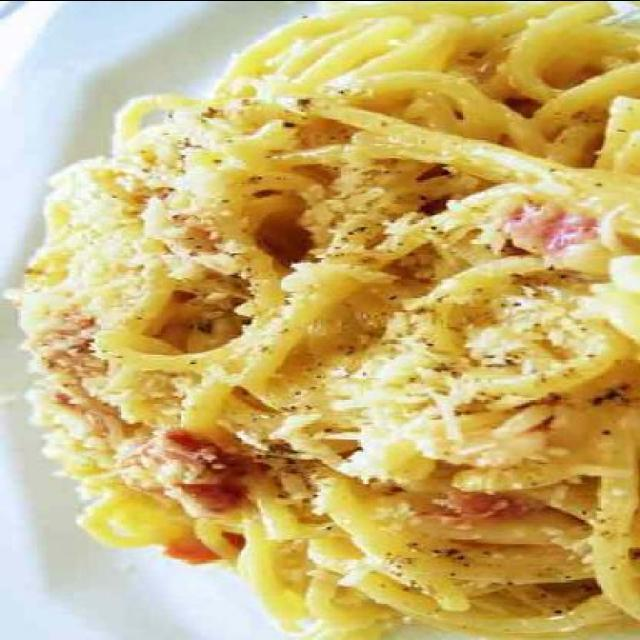Pasta with carbonara sauce: (21, 4, 630, 624)
